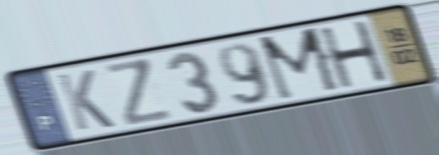3: (165, 47, 222, 117)
9: (217, 40, 274, 107)
H: (315, 17, 392, 92)
K: (53, 67, 118, 134)
M: (254, 24, 344, 104)
Z: (101, 55, 177, 128)
